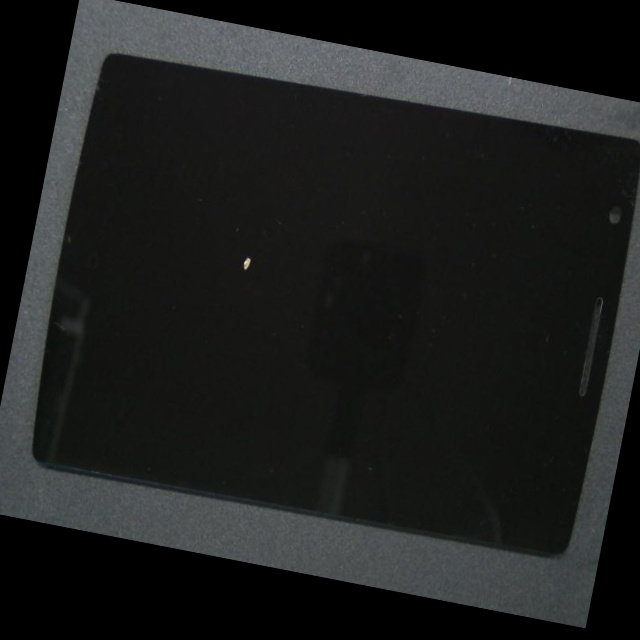stain: (113, 145, 381, 448)
